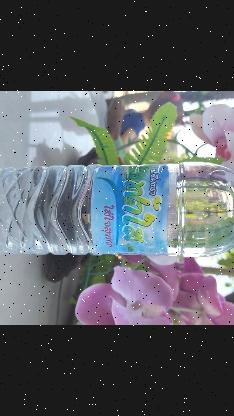Plastic Bottle: (0, 162, 234, 257)
